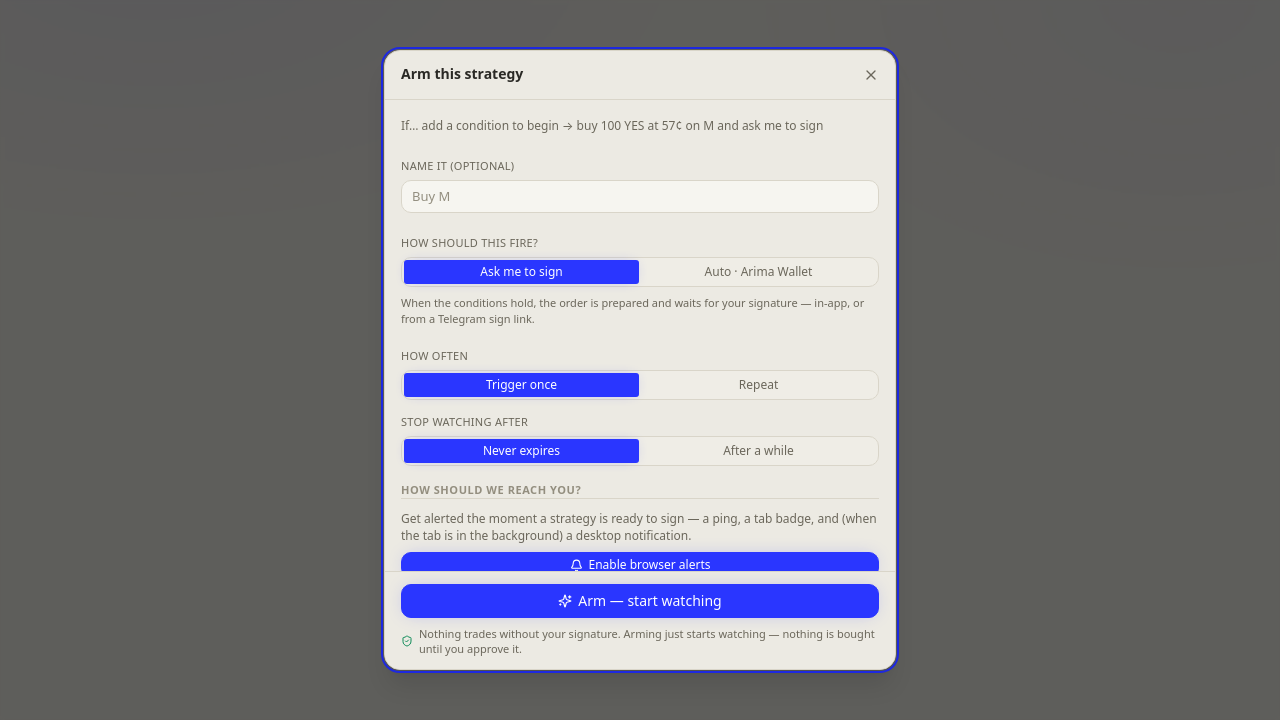
it: ArmSheet › switching to auto prefills spend caps and swaps the trust line
Click the button "Auto · Arima Wallet".
click(758, 272)  # box top-left (641, 260), bottom-right (876, 284)
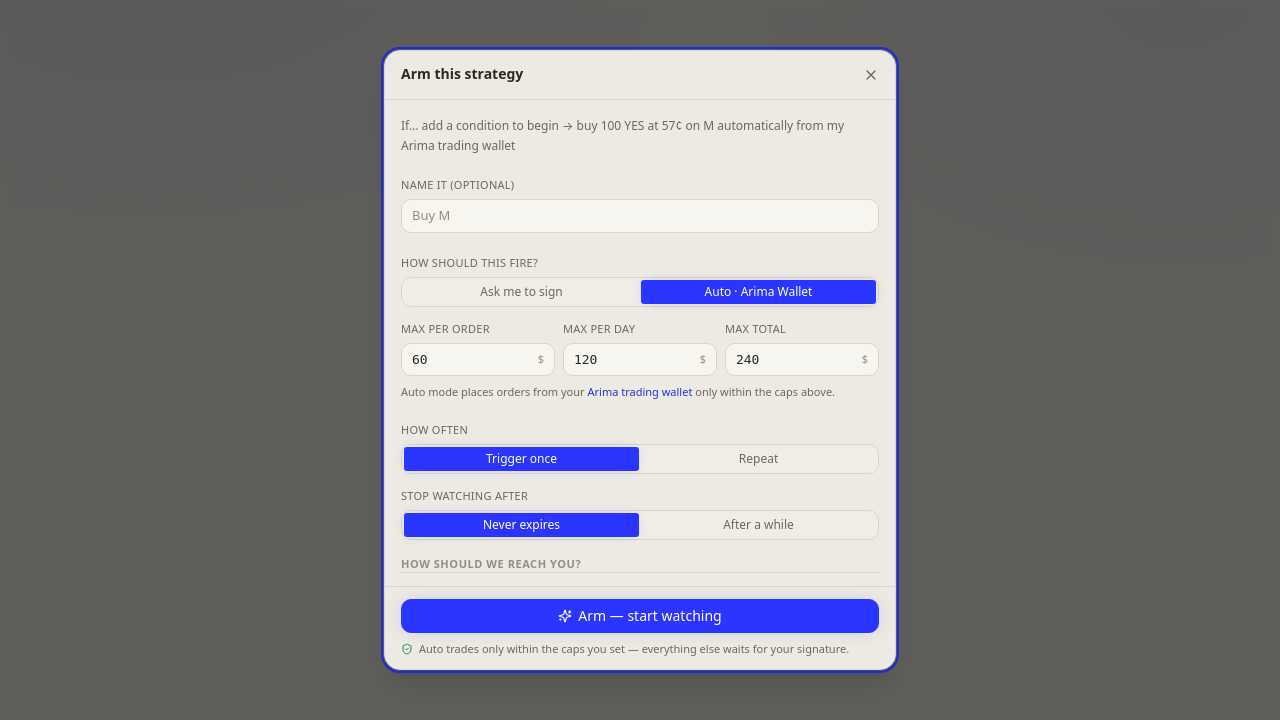
Check: the text "Max per order" is shown, box top-left (401, 321), bottom-right (490, 336)
Check: the text "Auto trades only within the caps you set" is shown, box top-left (419, 642), bottom-right (849, 656)
